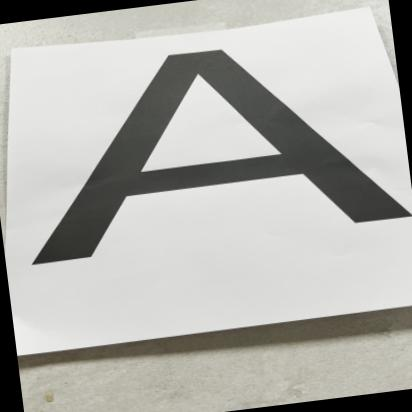seat: (27, 21, 412, 308)
